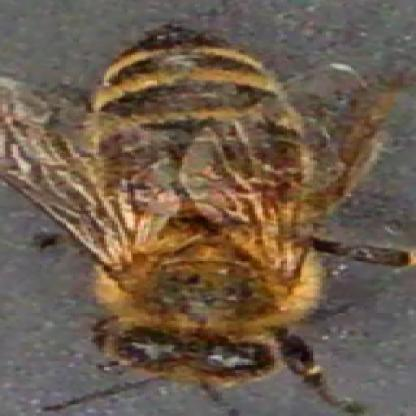bee: (60, 25, 337, 369)
